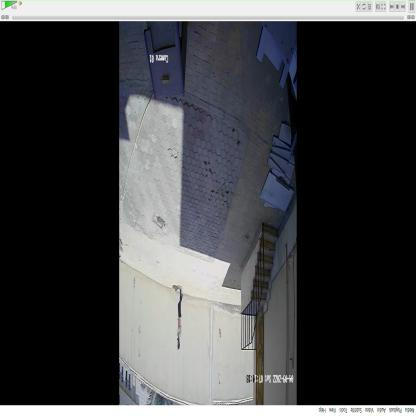handgun: (176, 326, 180, 354)
